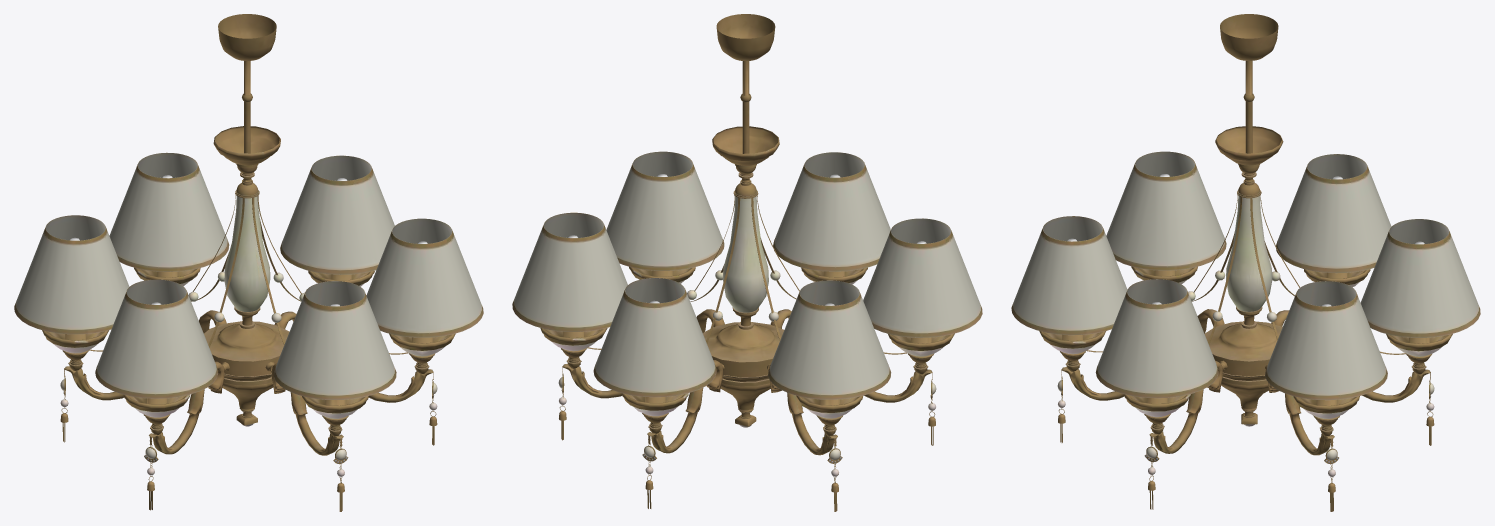
File: Chandelier_01.glb
3 renders of one model, left to right at view 1: azimuth 30°, elevation 25°; view 2: azimuth 150°, elevation 25°; view 3: azimuth 270°, elevation 25°, orthographic.
Parts seen in each view (by area): view 1: Chandelier_01; view 2: Chandelier_01; view 3: Chandelier_01.
Boxes of the visible parts, x1=… form: Chandelier_01: x1=14, y1=14, x2=483, y2=511; Chandelier_01: x1=512, y1=14, x2=982, y2=511; Chandelier_01: x1=1011, y1=14, x2=1480, y2=511.
Bounding box in the file's own units: 0.7465 × 0.7982 × 0.8155.
2 materials, 1 textured.
